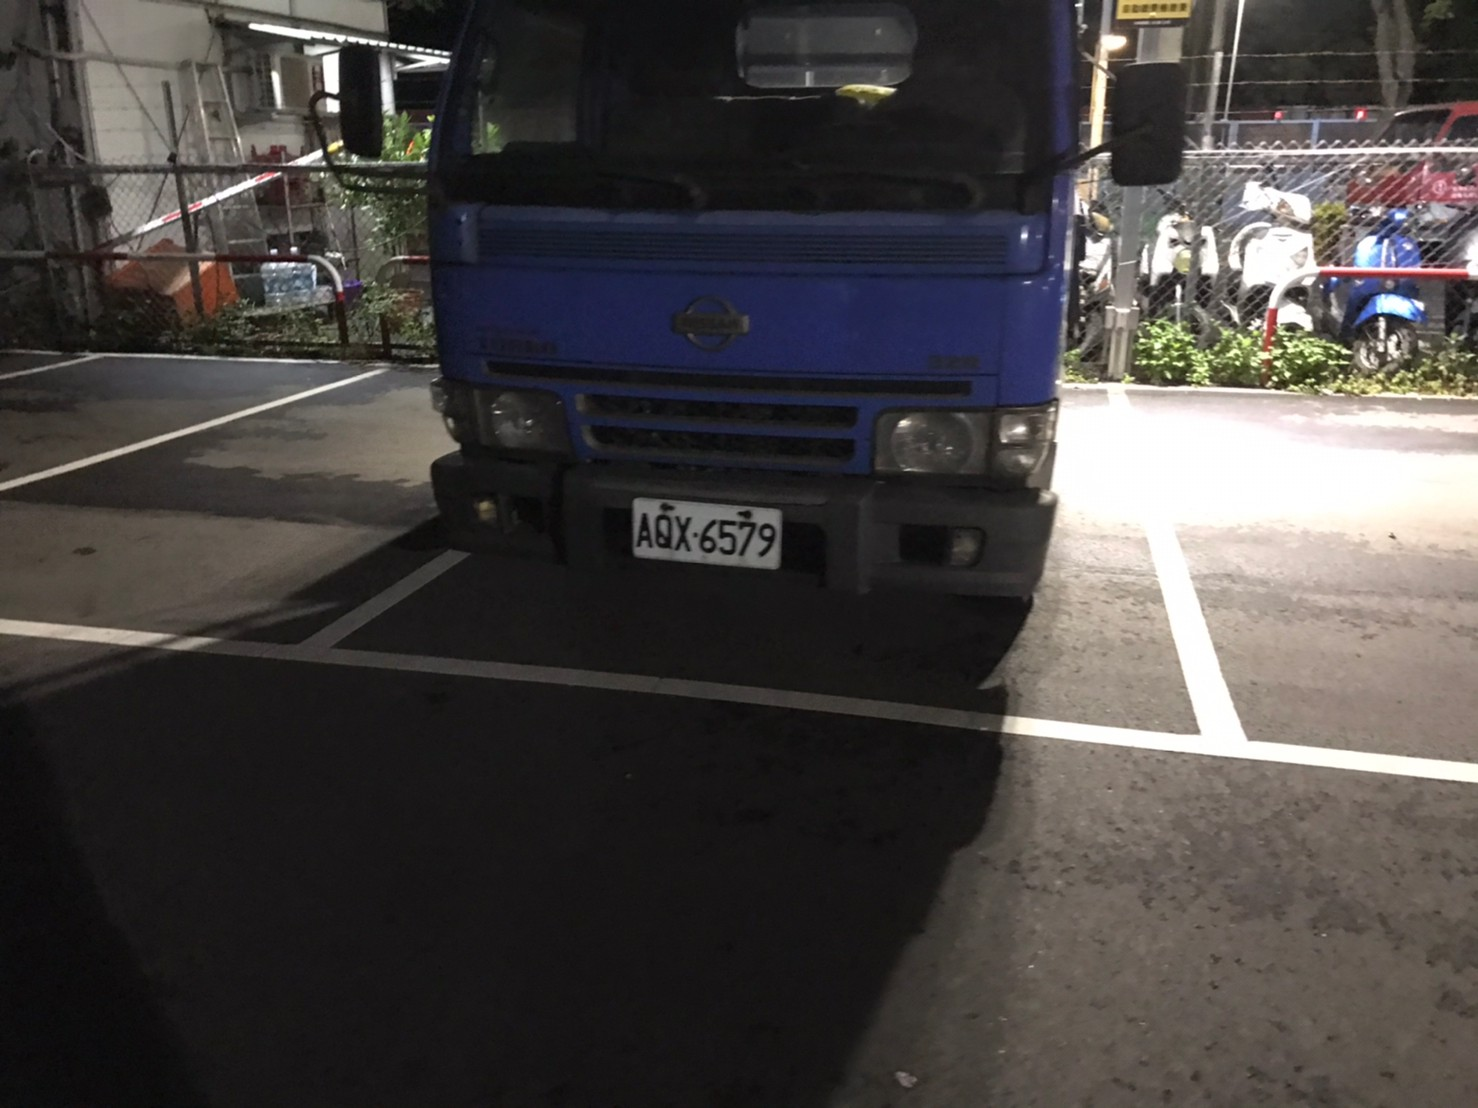LP: (627, 493, 787, 571)
